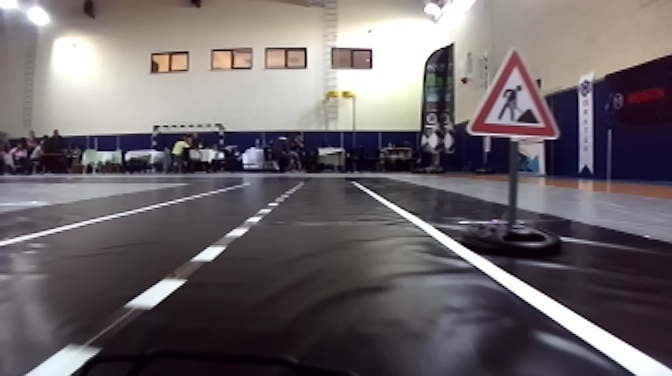yol_yapimi: (457, 44, 564, 142)
